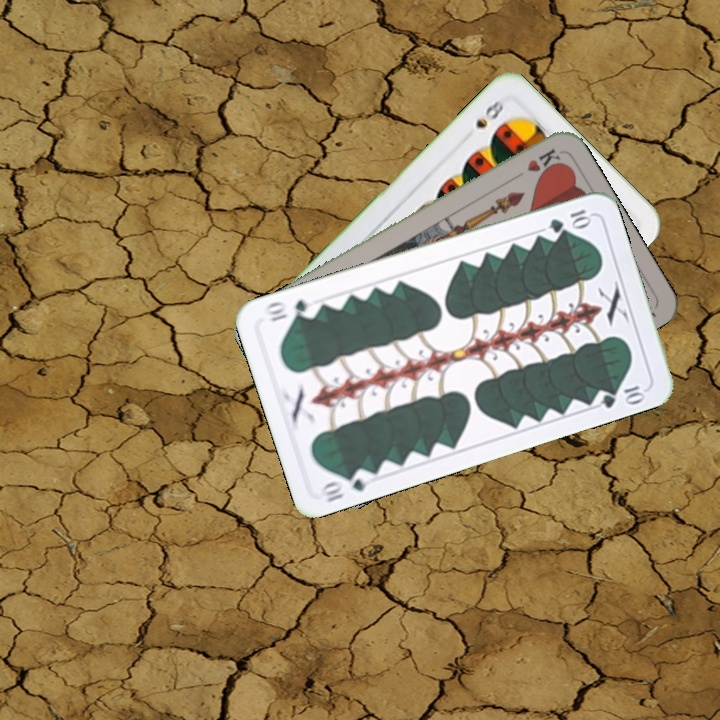G10: (315, 465, 375, 505), (545, 205, 594, 235)
HK: (507, 144, 562, 184)
S8: (471, 96, 507, 131)
